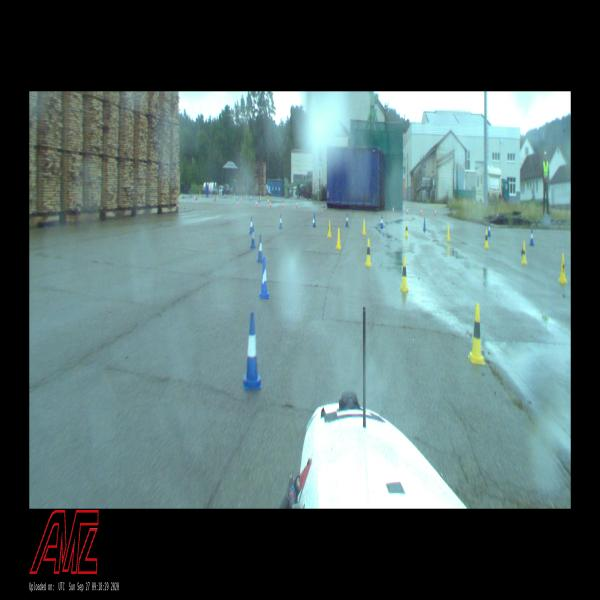blue_cone: (243, 312, 262, 390), (259, 256, 270, 300), (256, 234, 264, 264), (250, 224, 256, 249), (529, 228, 535, 247), (278, 213, 283, 230), (248, 215, 252, 234), (312, 212, 316, 228), (380, 214, 384, 229), (345, 213, 349, 228), (488, 222, 491, 237), (423, 217, 426, 232)
orange_cone: (420, 207, 423, 216), (406, 207, 409, 215), (434, 208, 437, 216), (392, 206, 395, 214), (269, 200, 272, 208), (255, 200, 258, 208), (237, 200, 240, 208), (296, 200, 298, 209), (282, 201, 284, 209)
yellow_cone: (468, 303, 486, 366), (398, 255, 410, 292), (557, 253, 568, 284), (364, 238, 372, 267), (521, 240, 528, 265), (335, 227, 342, 250), (484, 229, 489, 248), (327, 219, 332, 238), (446, 225, 451, 242), (404, 221, 409, 237), (362, 218, 366, 235), (267, 195, 269, 202)
